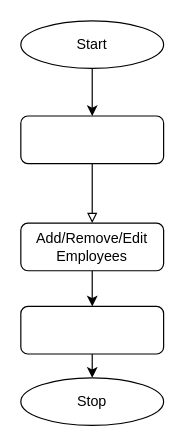
Image size: 184x447. Some labels were removed from this diagram. Each missing label, with the box of its shape:
Login: (20, 115, 164, 164)
View/Edit Attendance Records: (20, 305, 164, 354)
